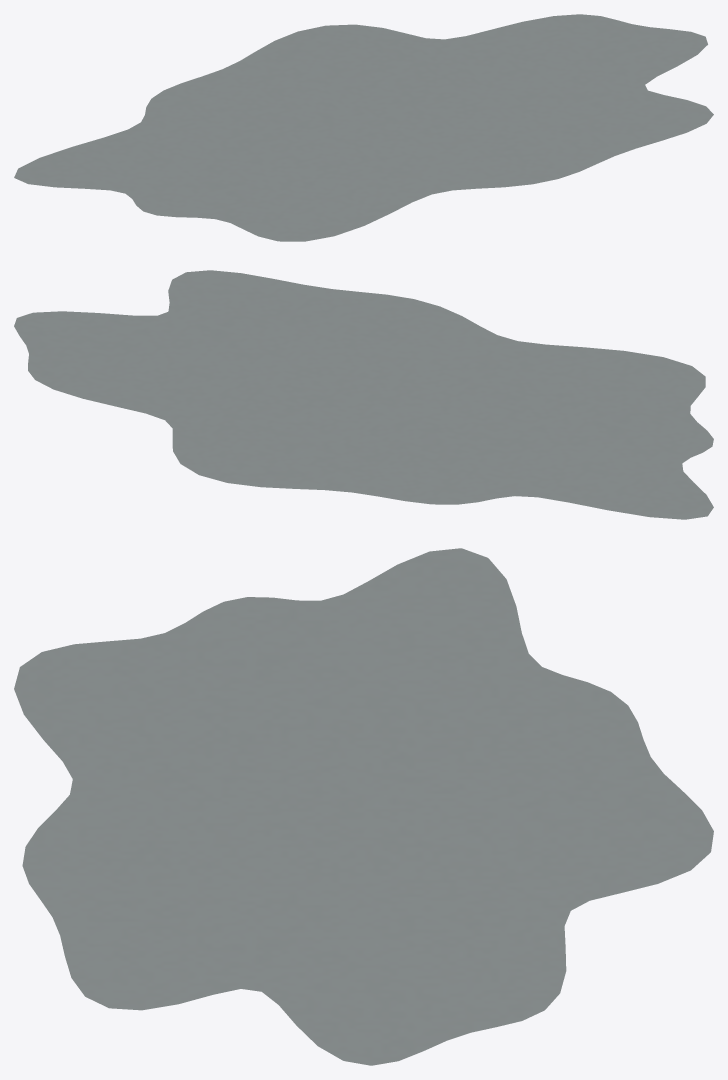
Rendered from Lab_WaterPuddle.fbx.
3 views of the same model, one above another, from view 1: azimuth 30°, elevation 25°; view 2: azimuth 150°, elevation 25°; view 3: azimuth 270°, elevation 25° (orthographic). The views are drawn at different scales.
Parts seen in each view (by area): view 1: Lab_WaterPuddle_prop; view 2: Lab_WaterPuddle_prop; view 3: Lab_WaterPuddle_prop.
Part boxes in pixels (box(x1,y1,x2,y2)): Lab_WaterPuddle_prop: box(14, 14, 713, 241); Lab_WaterPuddle_prop: box(14, 270, 713, 519); Lab_WaterPuddle_prop: box(14, 548, 713, 1065).
Size of the model in its own units: 1.82 by 1.69e-07 by 1.04.
1 material, 1 textured.
